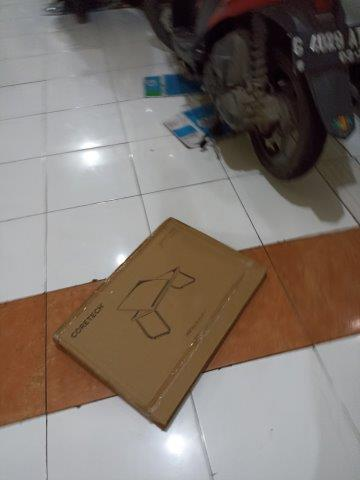kardus: (55, 220, 265, 427)
